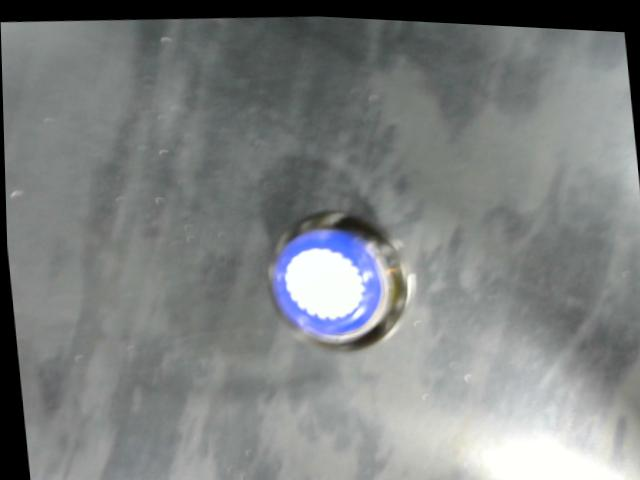glass: (254, 196, 434, 354)
